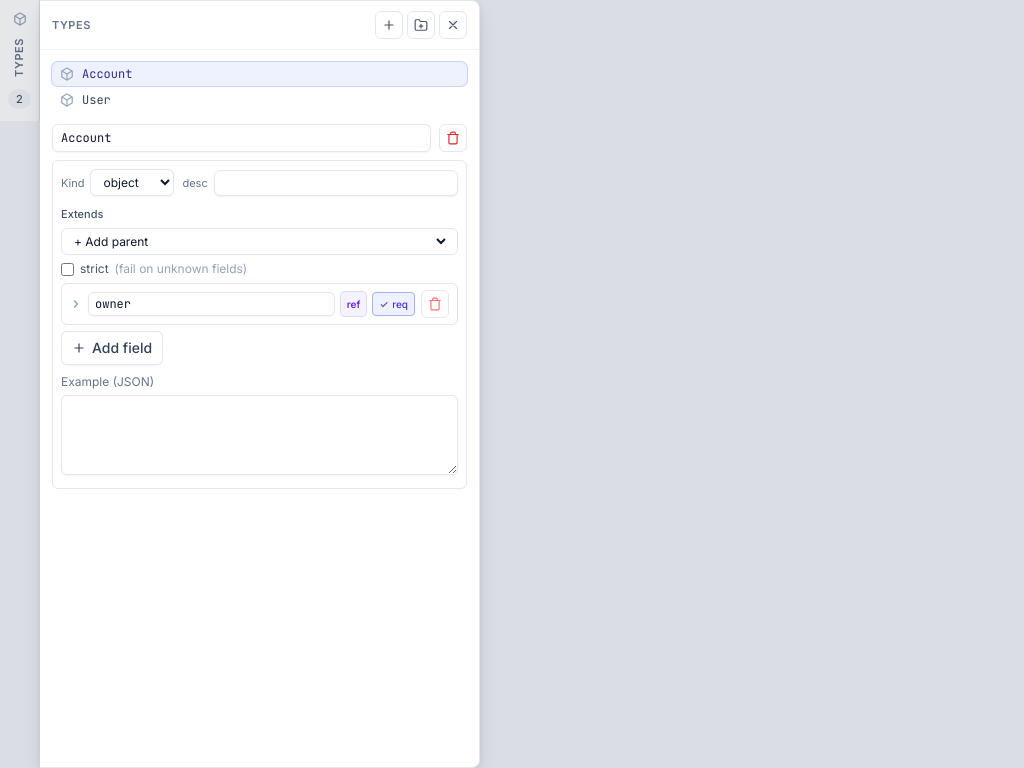
type referenced by another type: trash disabled, clicking entry switches selection
This screenshot has width=1024, height=768.
Click the button "User". click: click(67, 100)
box: 52,88 -> 467,112
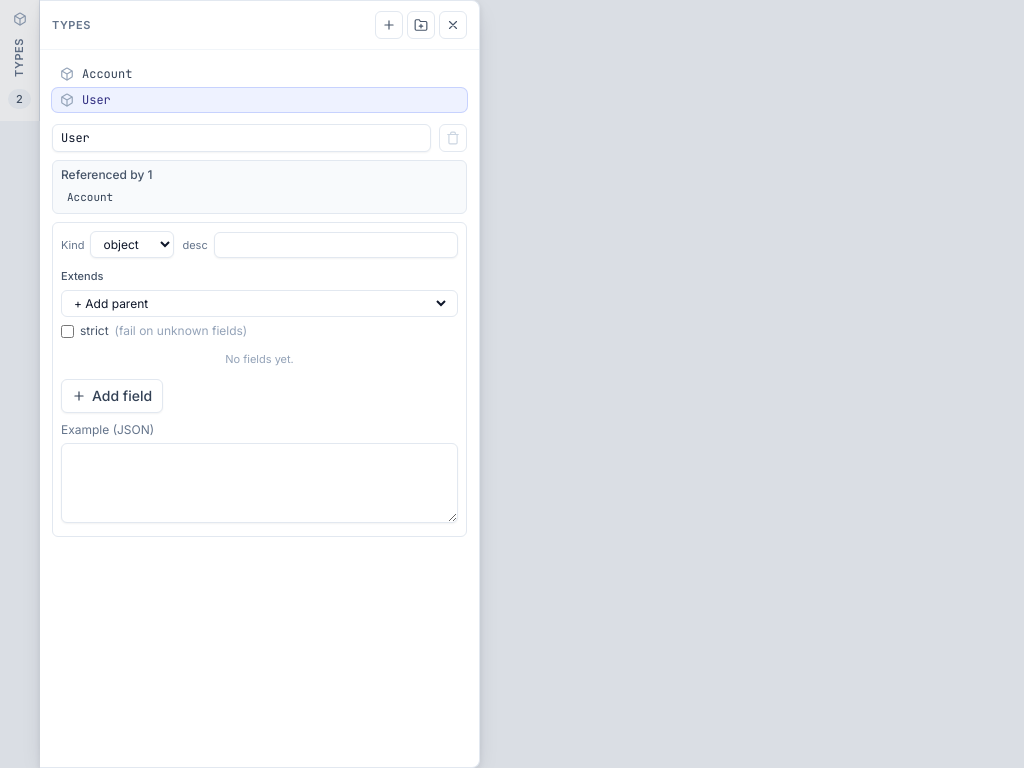
Expected: the button "Account" below "Referenced by 1" is shown
Click the button "Account" below "Referenced by 1". click: click(90, 197)
box: 61,187 -> 458,207
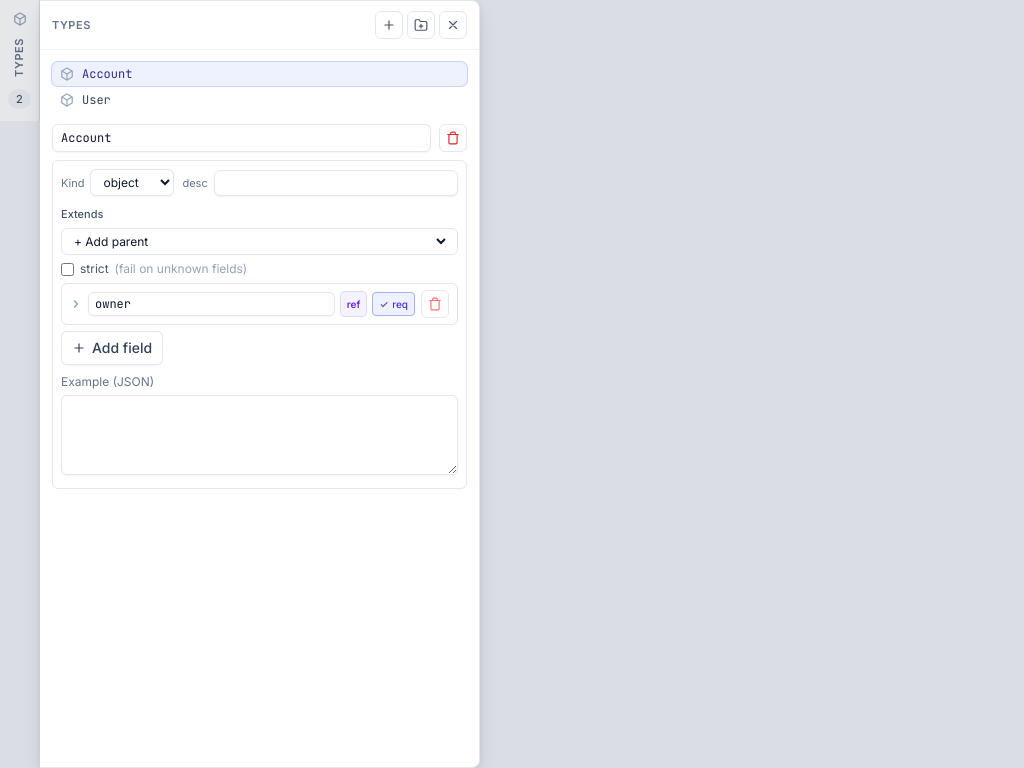
Expected: the text "Referenced by" is gone
Expected: the button named "delete" is enabled, 439,124 -> 467,152
